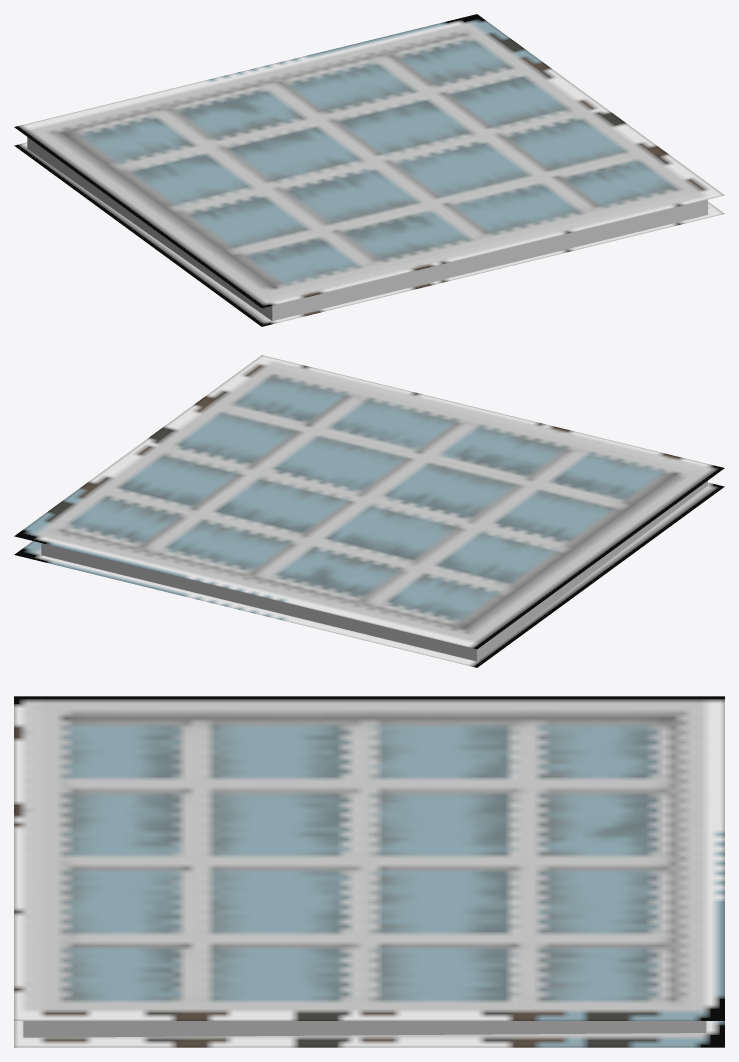
Rendered from pz_native_fixtures_windows_white_27_frame.obj.
The picture shows the model from 3 angles, top to bottom: view 1: azimuth 30°, elevation 25°; view 2: azimuth 150°, elevation 25°; view 3: azimuth 270°, elevation 25°; orthographic projection. The views are drawn at different scales.
Parts seen in each view (by area): view 1: pz_native_fixtures_windows_white_27_frame; view 2: pz_native_fixtures_windows_white_27_frame; view 3: pz_native_fixtures_windows_white_27_frame.
Part boxes in pixels (x1=…): pz_native_fixtures_windows_white_27_frame: x1=14, y1=14, x2=724, y2=326; pz_native_fixtures_windows_white_27_frame: x1=14, y1=355, x2=724, y2=667; pz_native_fixtures_windows_white_27_frame: x1=14, y1=696, x2=724, y2=1047.
Bounding box in the file's own units: 1.05 × 0.04 × 0.9696.
Materials: 1 (1 with a texture image).
